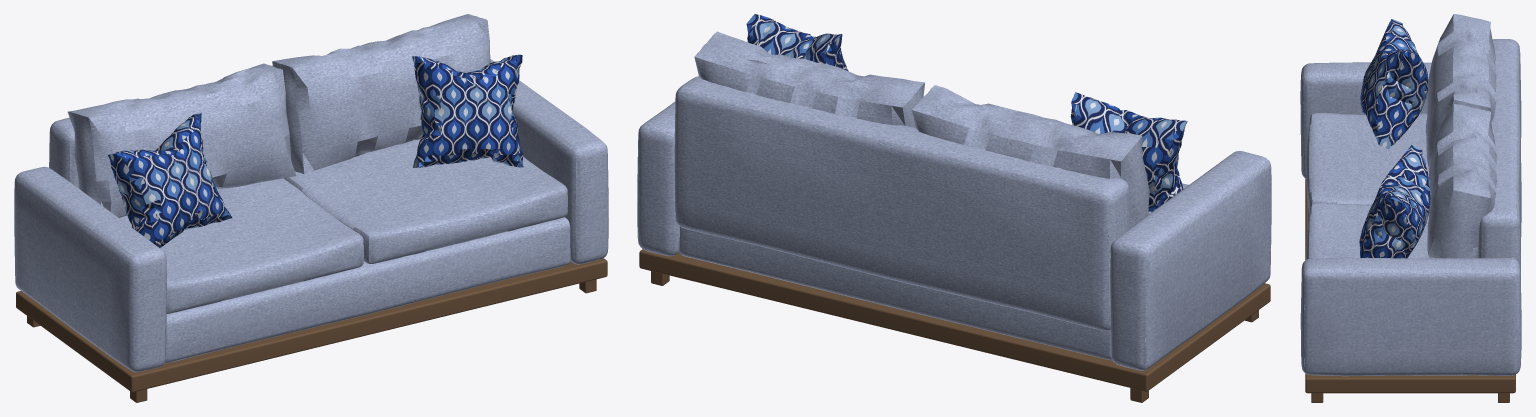
Rendered from hotel-lobby-sofa-2-mobile.glb.
3 renders of one model, left to right at view 1: azimuth 30°, elevation 25°; view 2: azimuth 150°, elevation 25°; view 3: azimuth 270°, elevation 25°, orthographic. The views are drawn at different scales.
Visible parts, largest first — view 1: heather_grey, pillow_jacquard, walnut_stain; view 2: heather_grey, walnut_stain, pillow_jacquard; view 3: heather_grey, pillow_jacquard, walnut_stain.
Part boxes in pixels (x1=…): heather_grey: x1=14, y1=14, x2=608, y2=372; pillow_jacquard: x1=108, y1=54, x2=523, y2=247; walnut_stain: x1=16, y1=258, x2=607, y2=402; heather_grey: x1=637, y1=31, x2=1271, y2=370; walnut_stain: x1=639, y1=249, x2=1270, y2=402; pillow_jacquard: x1=746, y1=14, x2=1187, y2=211; heather_grey: x1=1300, y1=14, x2=1521, y2=376; pillow_jacquard: x1=1359, y1=19, x2=1430, y2=258; walnut_stain: x1=1305, y1=179, x2=1515, y2=402.
Size of the model in its own units: 2.1 by 0.9372 by 0.9242.
Materials: 3 (2 with a texture image).
